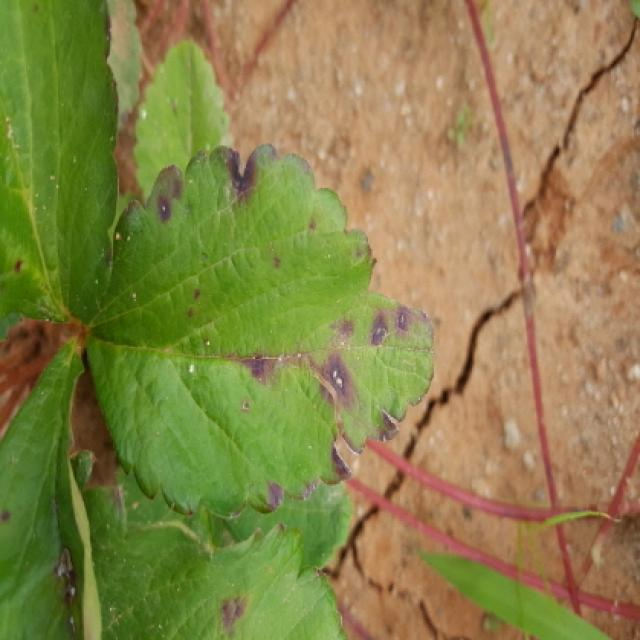Leaf Spot: (85, 144, 437, 518), (70, 450, 350, 638), (2, 0, 121, 322), (2, 335, 99, 638)
